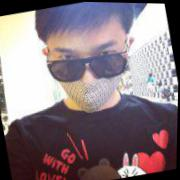WRONG: (45, 23, 137, 120)
